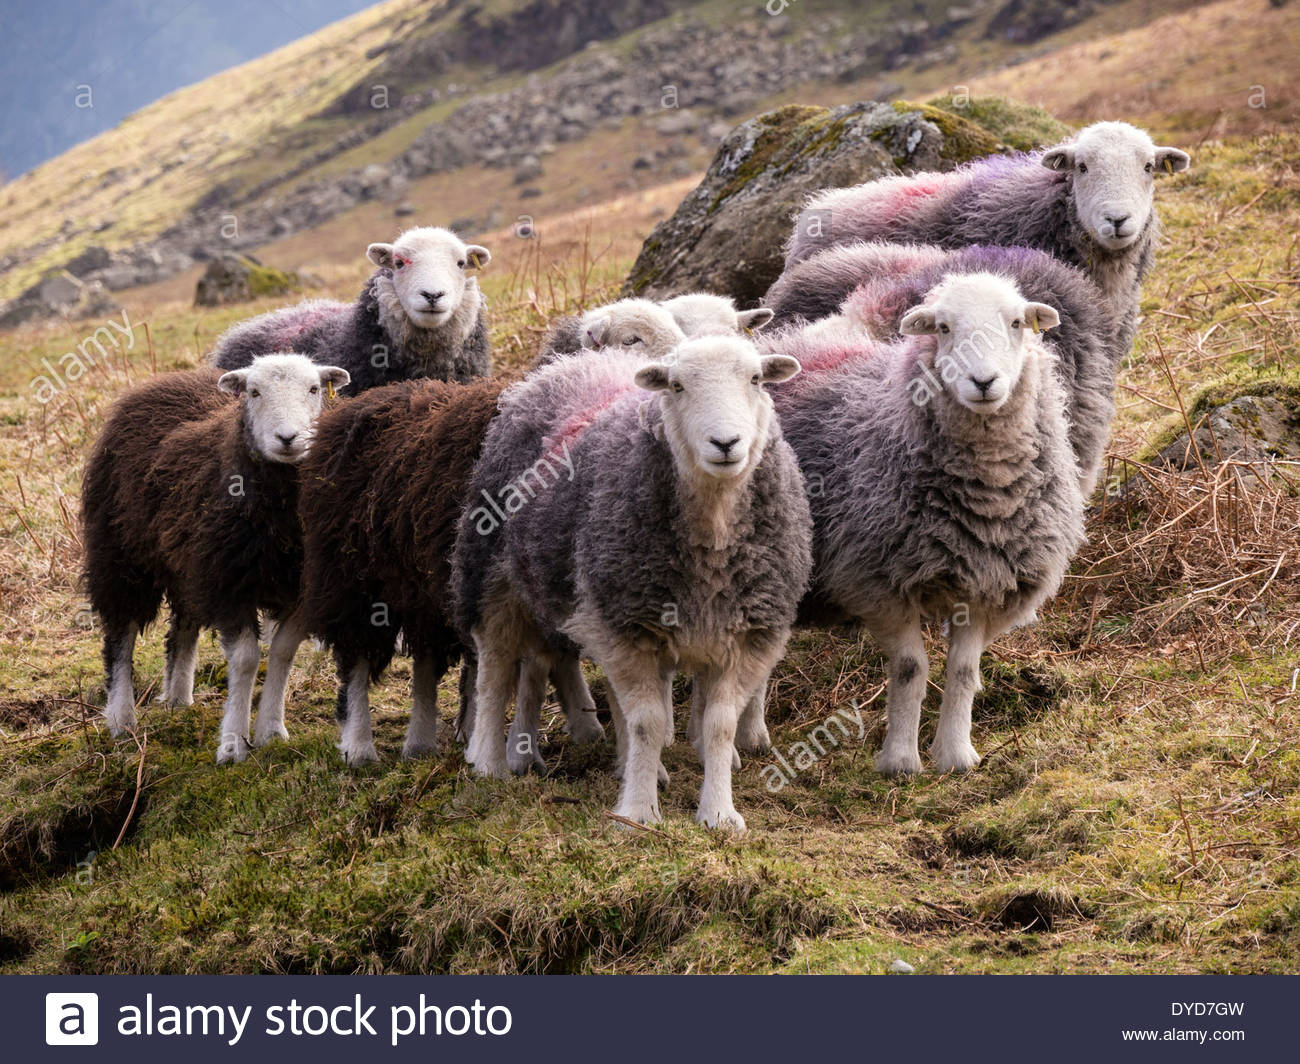sheep: (468, 344, 776, 813), (815, 278, 1044, 767), (86, 353, 340, 754), (818, 131, 1200, 336), (195, 208, 509, 393)
